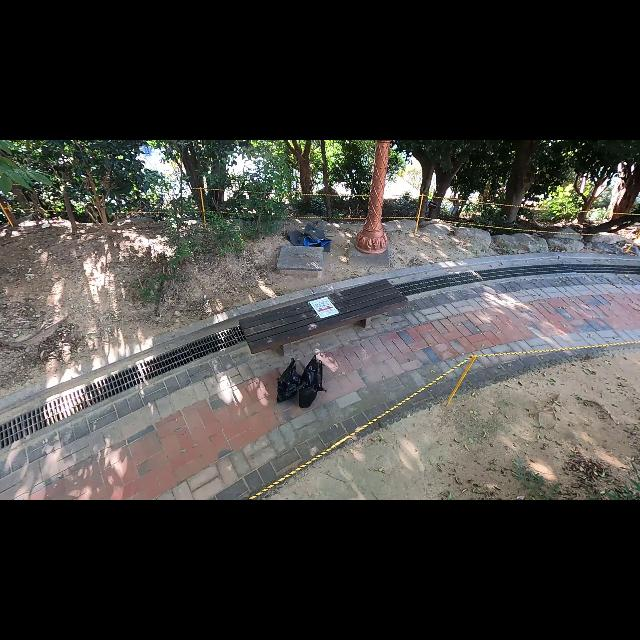trash: (284, 222, 332, 256), (297, 376, 327, 408), (301, 354, 325, 390), (279, 358, 303, 388), (275, 378, 297, 402)
